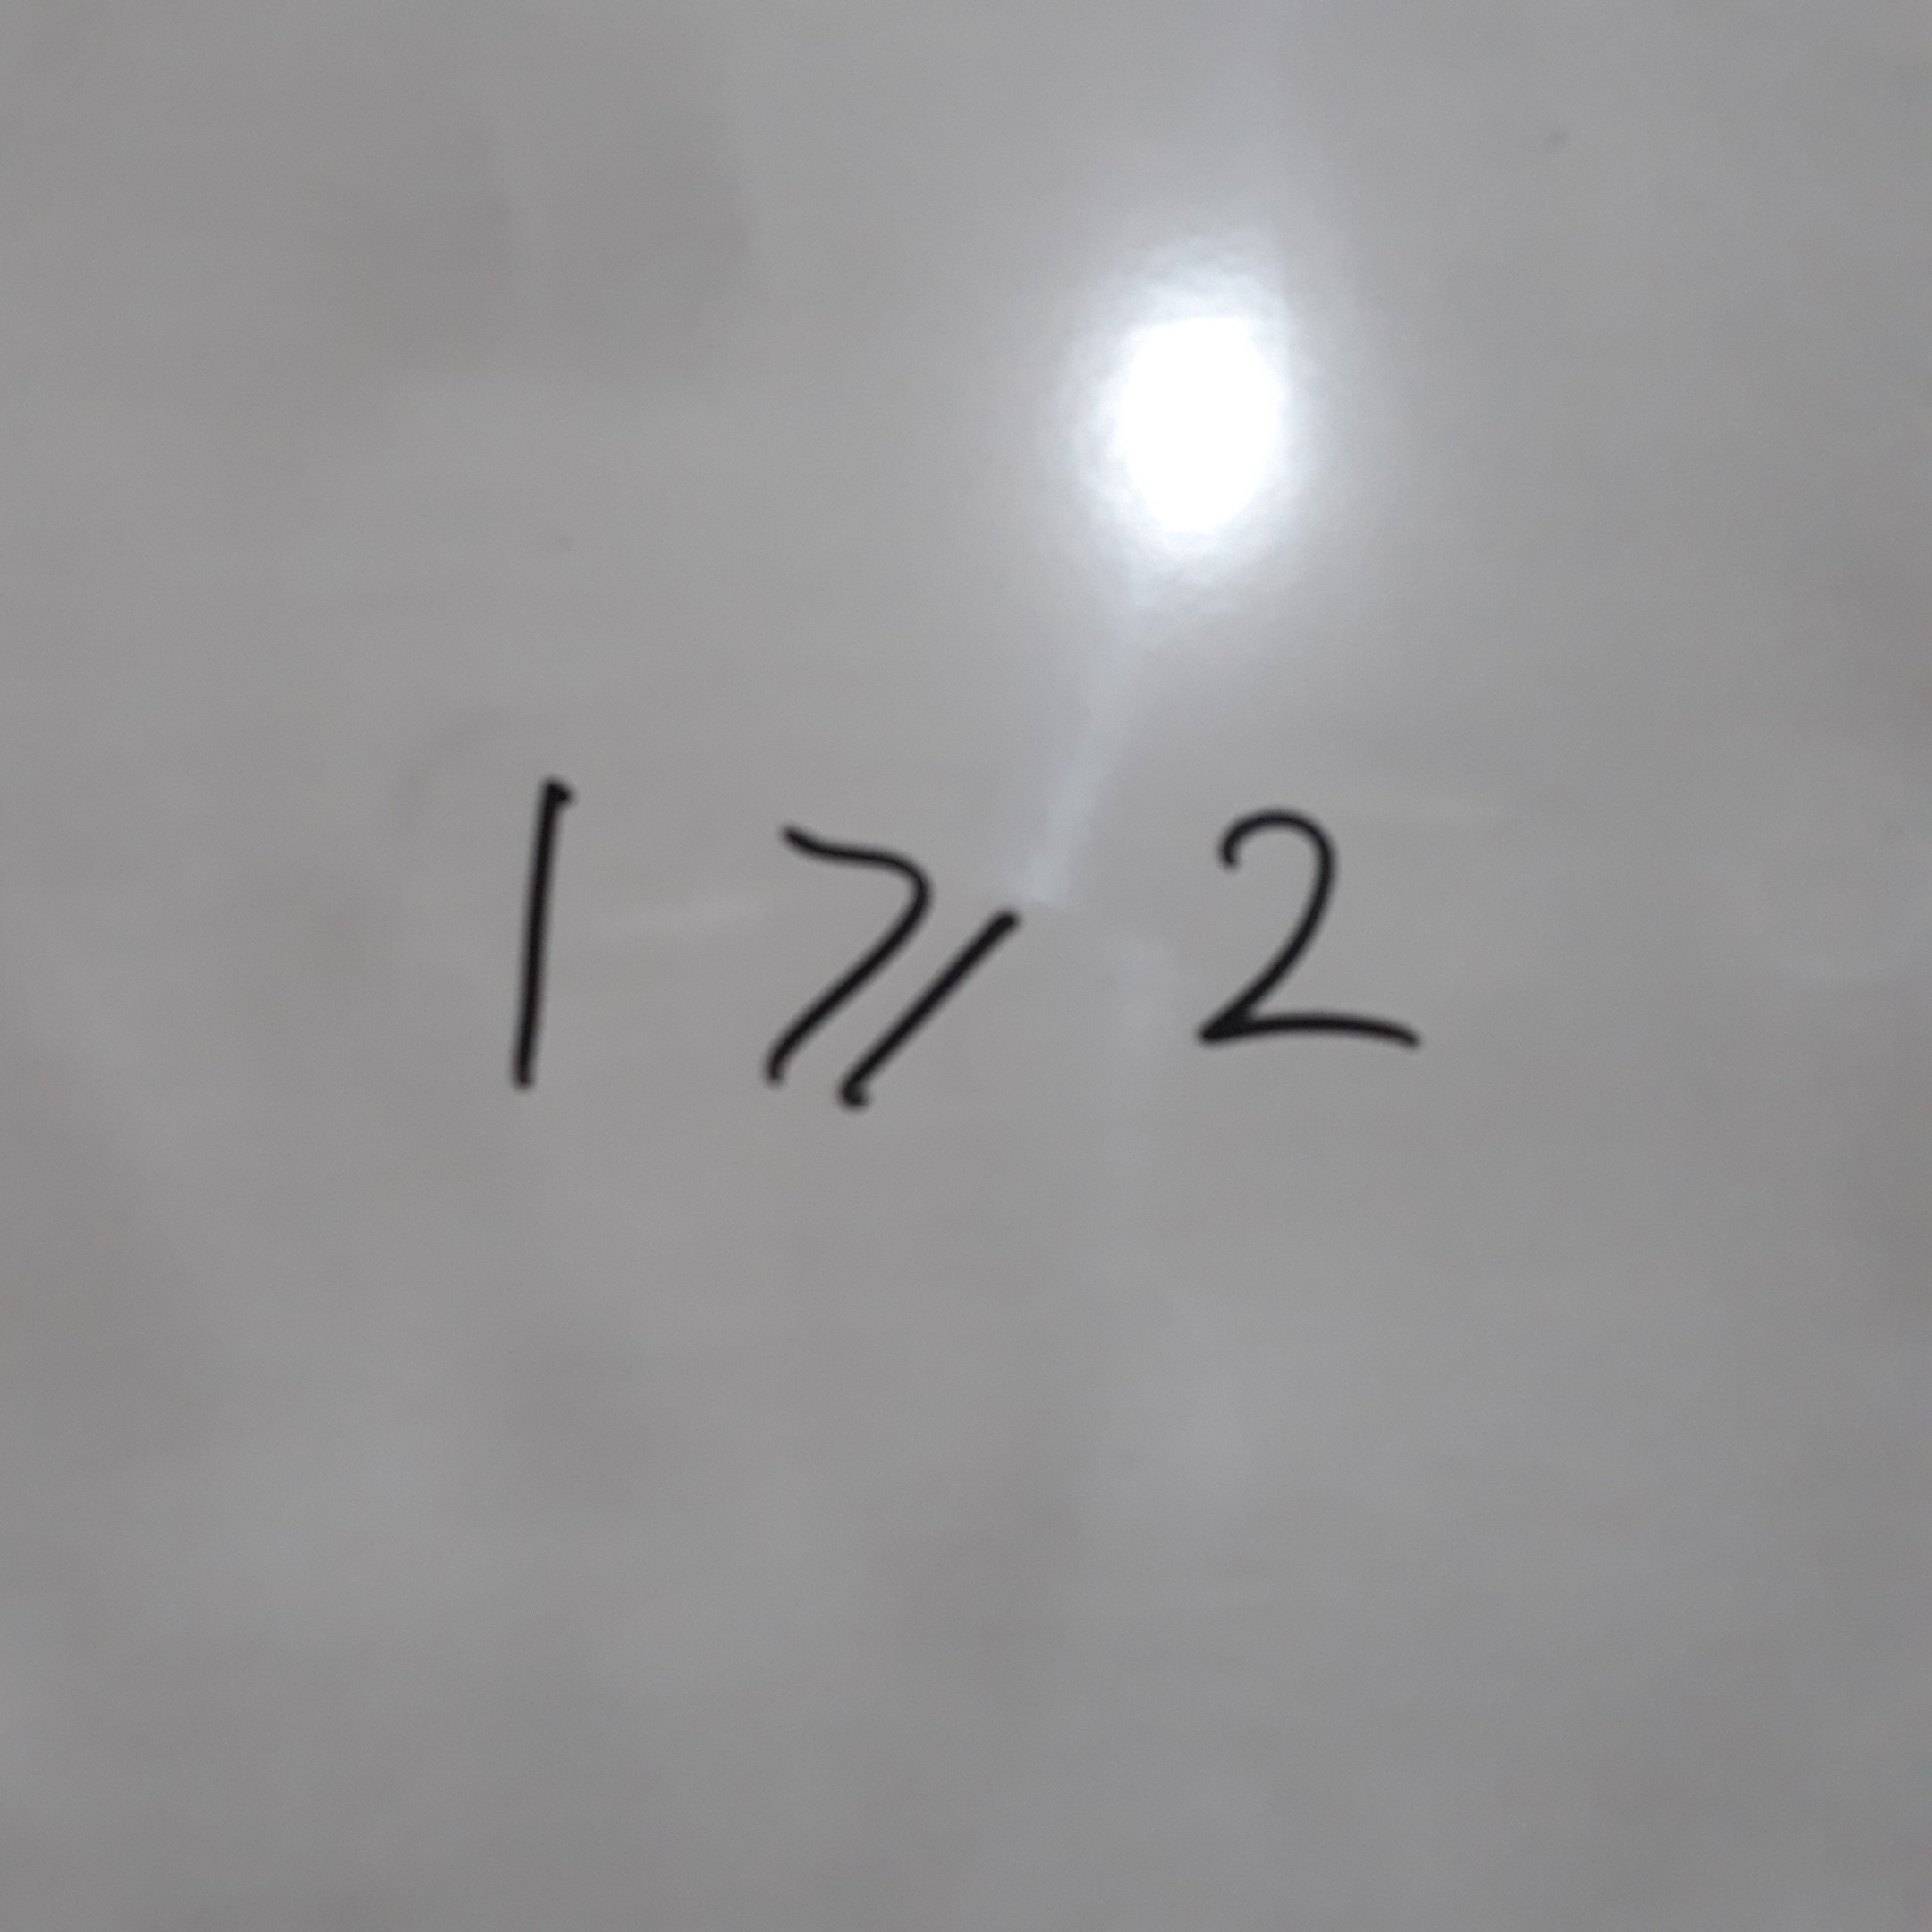morethan-equal: (737, 786, 1047, 1130)
num1: (457, 759, 595, 1112)
num2: (1148, 760, 1458, 1104)
